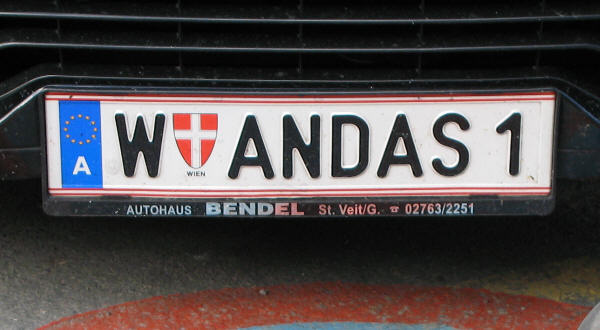license_plate: (44, 89, 555, 198)
